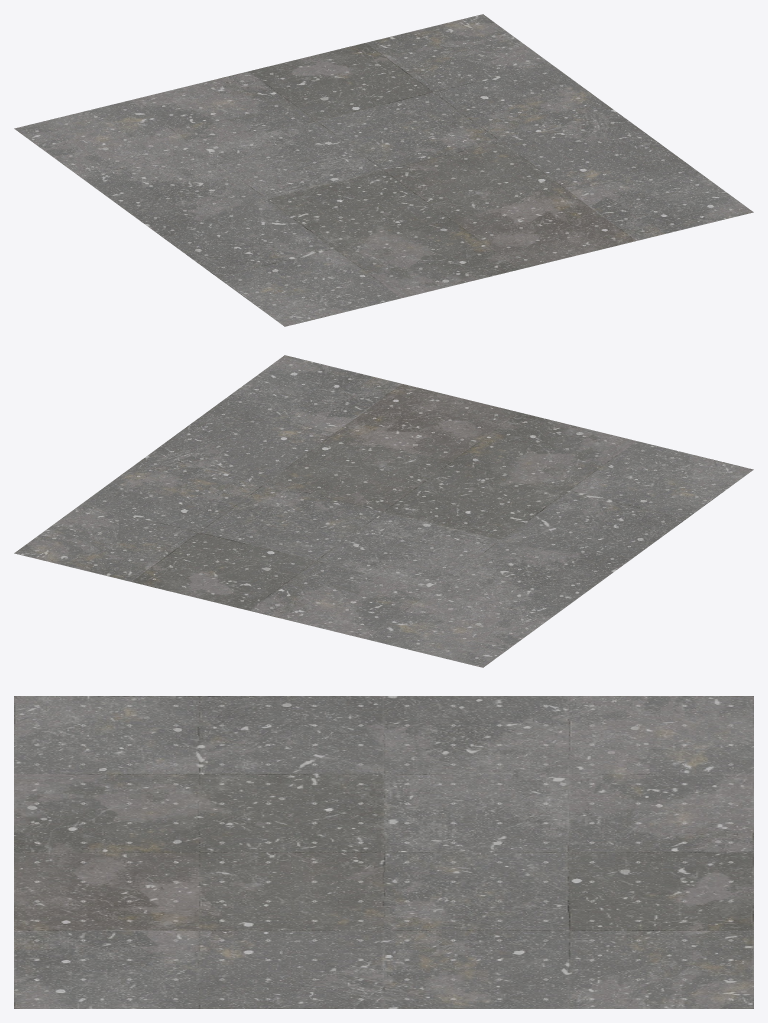
File: SM_Floor_200u.glb
3 views of the same model, one above another, from view 1: azimuth 30°, elevation 25°; view 2: azimuth 150°, elevation 25°; view 3: azimuth 270°, elevation 25° (orthographic). The views are drawn at different scales.
Visible parts, largest first — view 1: SM_Floor_200u; view 2: SM_Floor_200u; view 3: SM_Floor_200u.
Part boxes in pixels (x1,y1,x2,y2): SM_Floor_200u: (14,14,753,326); SM_Floor_200u: (14,355,753,667); SM_Floor_200u: (14,696,753,1008).
Size of the model in its own units: 2.6 by 0 by 2.6.
1 material, 1 textured.
